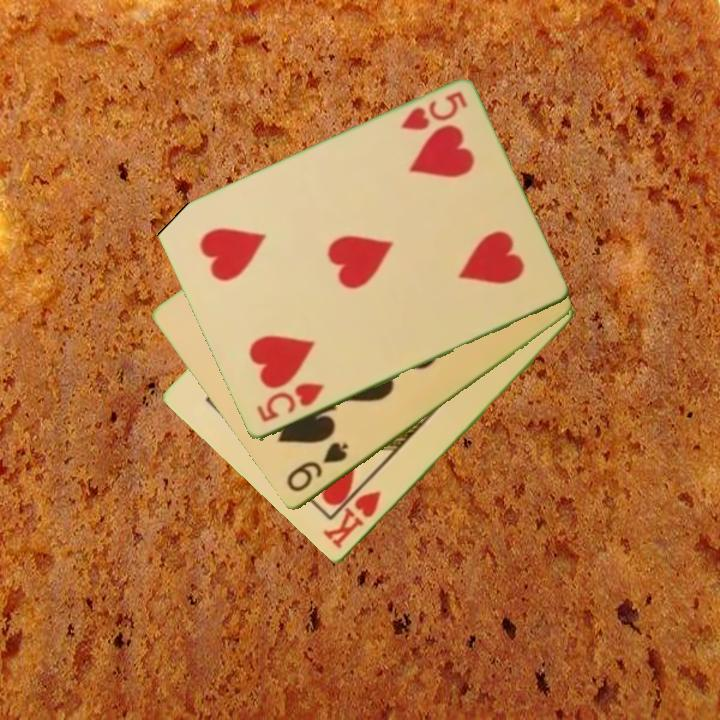5h: (253, 379, 327, 426), (397, 88, 470, 134)
9s: (282, 438, 352, 496)
Kh: (320, 487, 385, 552)
